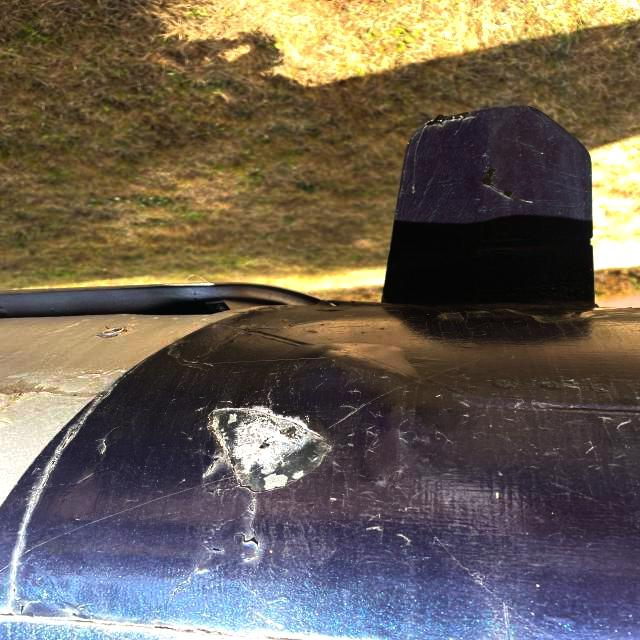crack: (188, 532, 269, 561)
dent: (187, 402, 353, 501)
